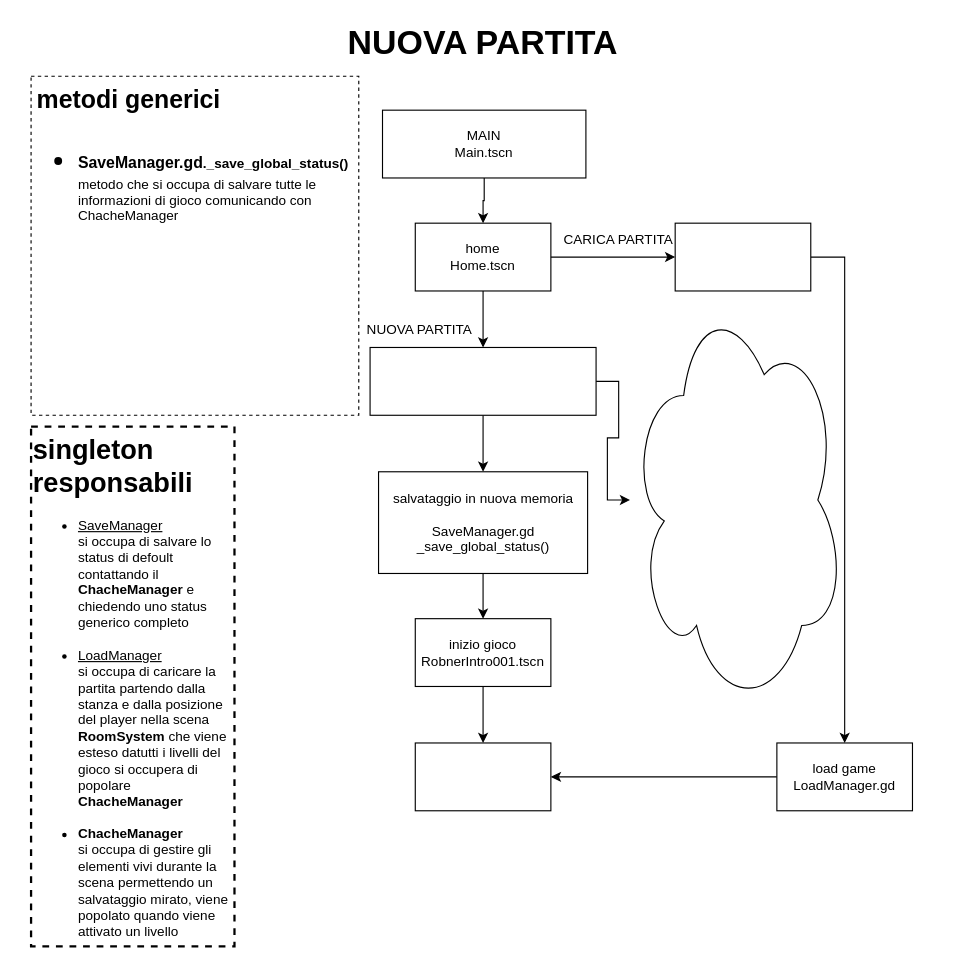
Image size: 965x968. Some labels were removed from this diagram. The box of each missing label's shape, as (x1, y1, x2, y2) in pixels:
avvia room corretta RoomManager.gd: (414, 742, 551, 811)
crea nuovo player importando la base dal defoult NewPlayer.tscn: (369, 346, 596, 415)
scelta della memoria loadScene.tscn: (674, 222, 811, 291)
